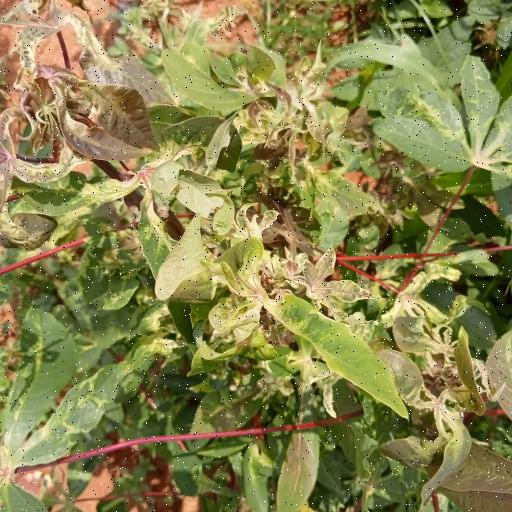Cassava_Healthy: (379, 61, 512, 198)
